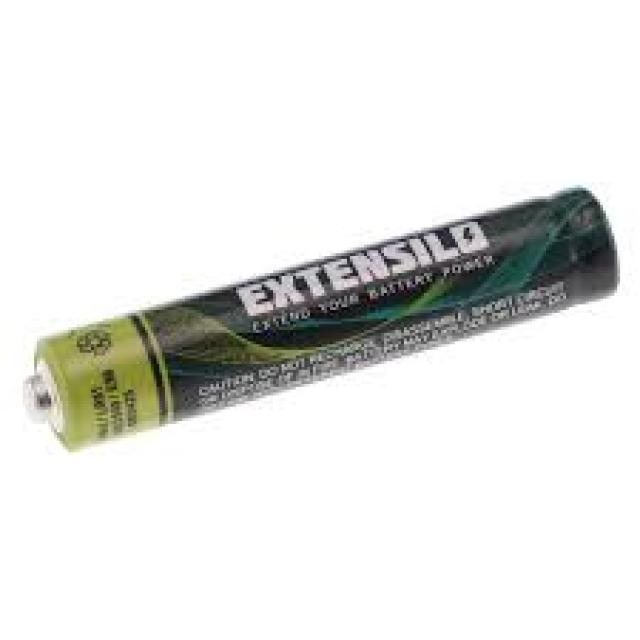AAA: (24, 184, 617, 453)
